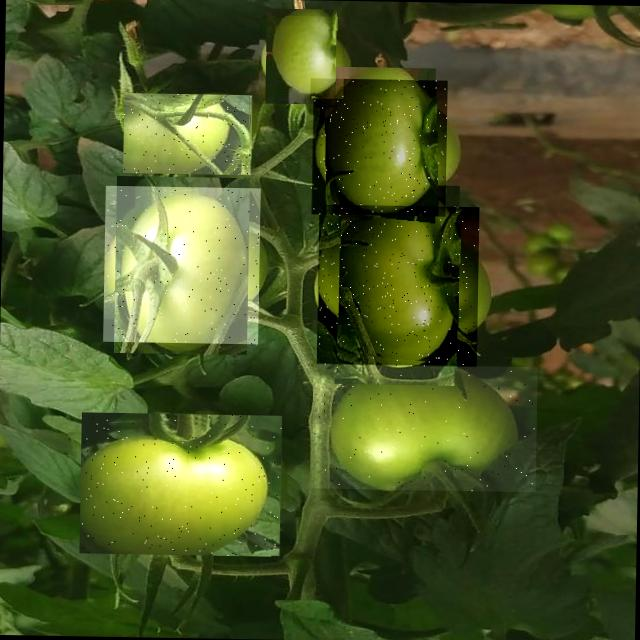Unripe Tomato: (79, 412, 282, 556), (310, 363, 536, 492), (316, 204, 479, 367), (102, 185, 260, 344), (308, 78, 446, 216), (122, 92, 251, 174), (258, 15, 342, 98)
